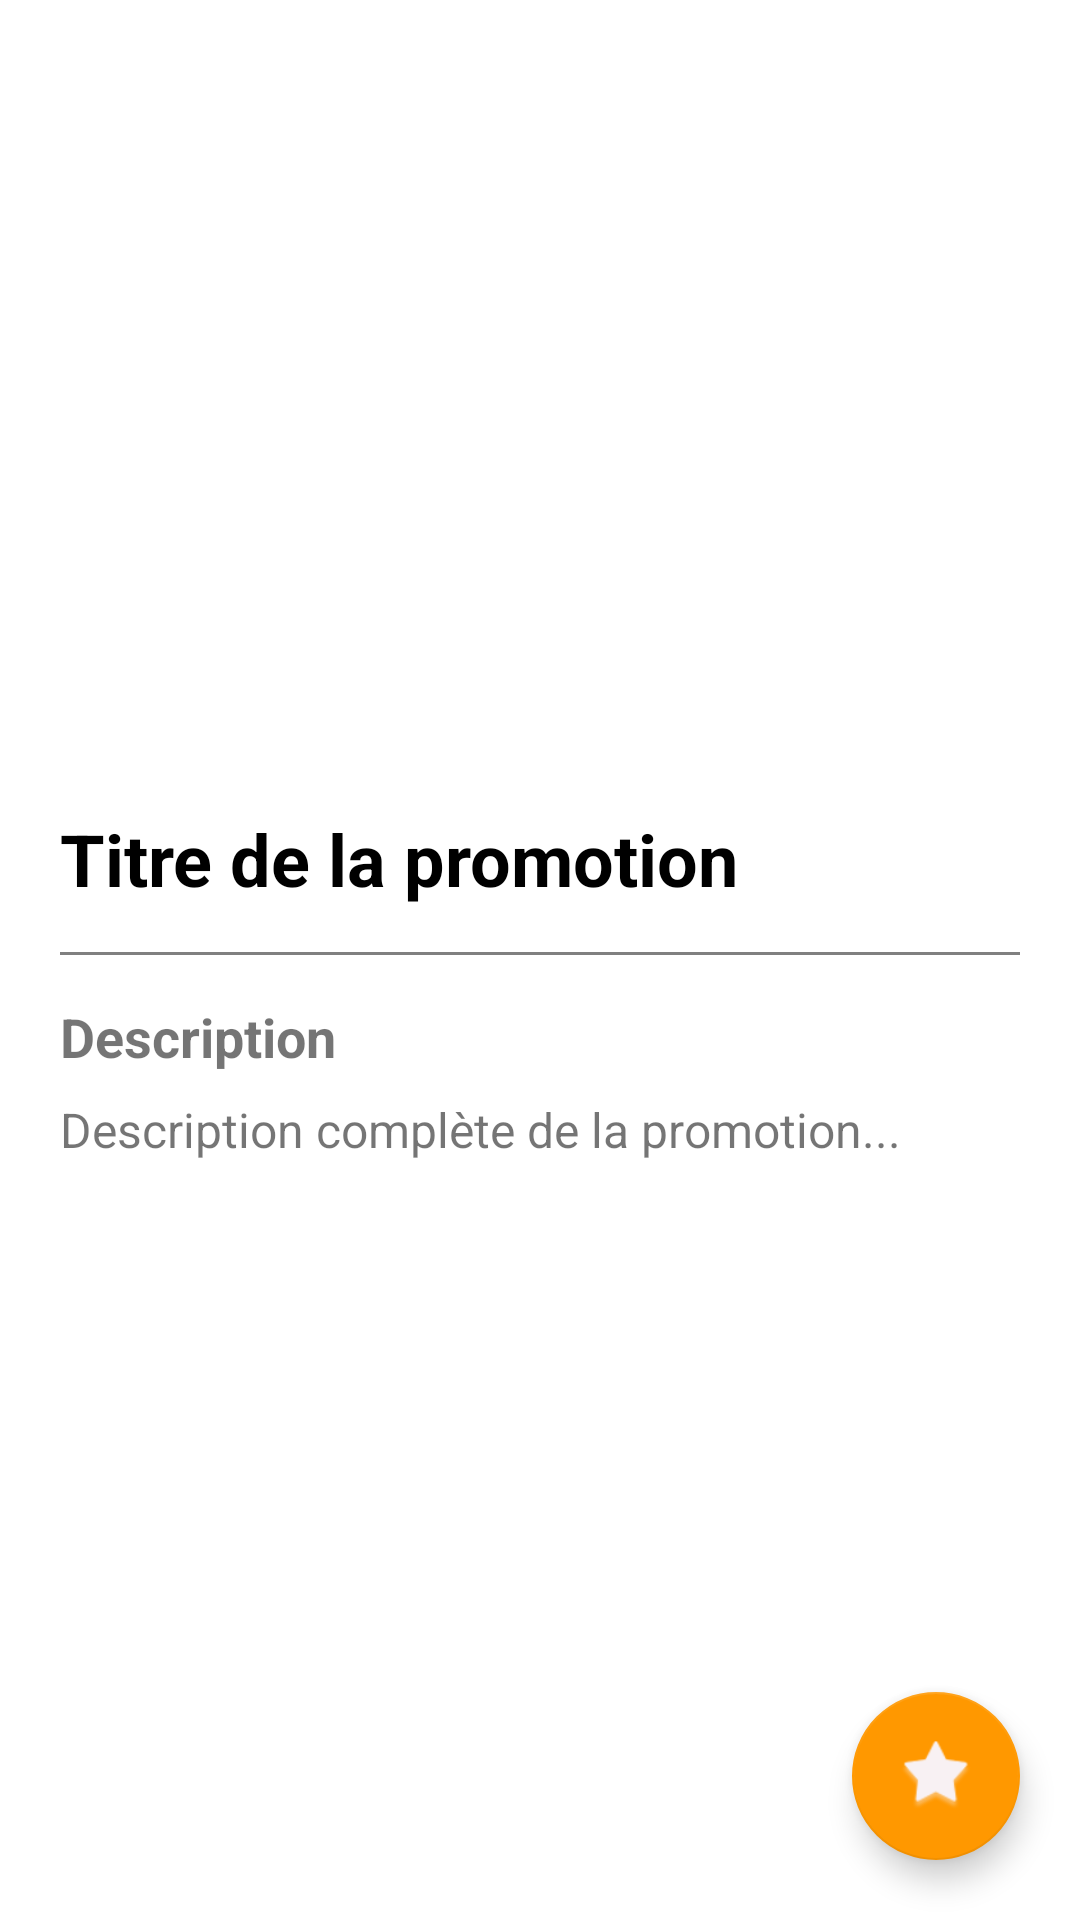

Icon click points for this 1080 × 1920 phone screenshot, format (x=x, y=y):
star off: (x=936, y=1776)
